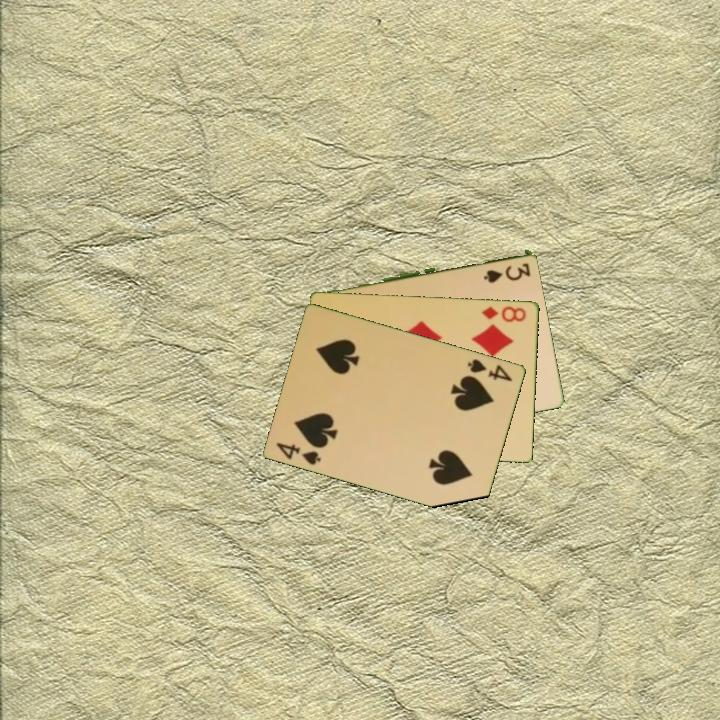3s: (480, 259, 533, 283)
4s: (464, 355, 516, 384), (273, 439, 324, 468)
8d: (479, 302, 529, 324)
